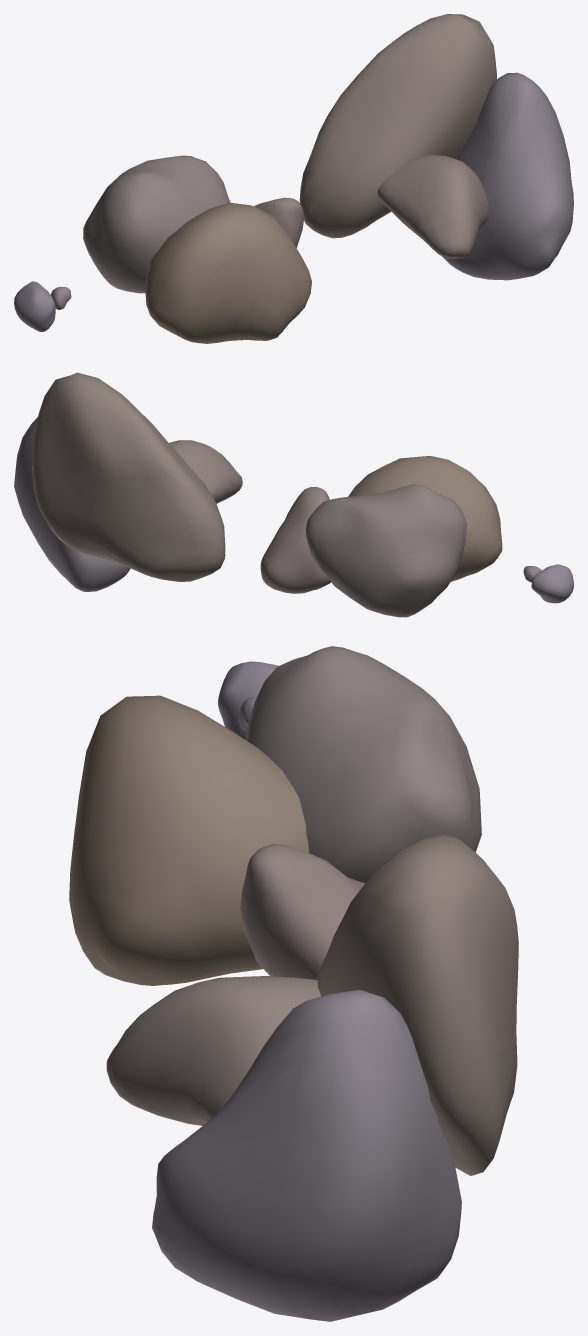
The model's file is giantMantaRayRocks_edit_for_FBX.fbx.
3 views of the same model, one above another, from view 1: azimuth 30°, elevation 25°; view 2: azimuth 150°, elevation 25°; view 3: azimuth 270°, elevation 25° (orthographic). The views are drawn at different scales.
Visible parts, largest first — view 1: rocks03, rocks02, rocks01; view 2: rocks03, rocks02, rocks01; view 3: rocks03, rocks02, rocks01.
Part boxes in pixels (x1,y1,x2,y2): rocks03: [299, 14, 573, 280]; rocks02: [83, 155, 311, 343]; rocks01: [14, 281, 71, 331]; rocks03: [14, 372, 242, 591]; rocks02: [260, 456, 502, 617]; rocks01: [523, 564, 573, 603]; rocks03: [106, 834, 518, 1321]; rocks02: [69, 646, 481, 985]; rocks01: [218, 661, 278, 739].
Bounding box in the file's own units: 1114 × 450 × 407.
